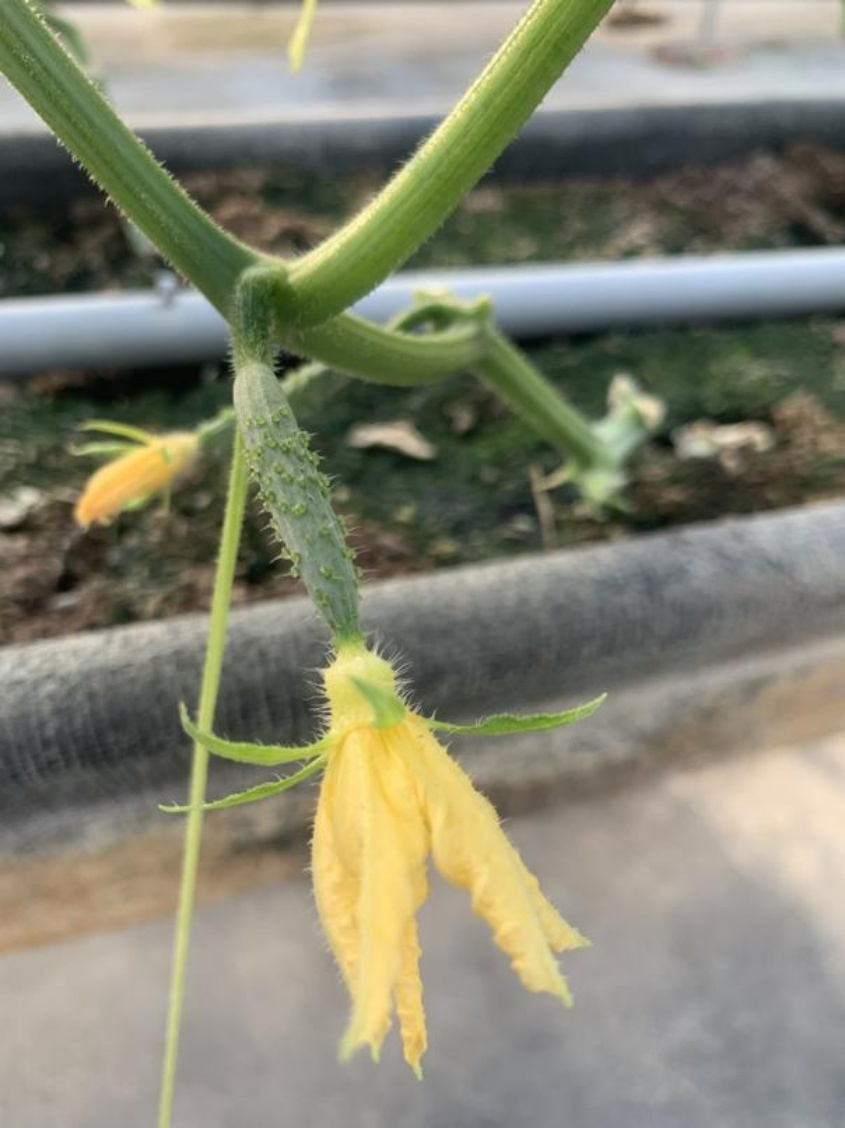bear: (152, 317, 618, 1037)
